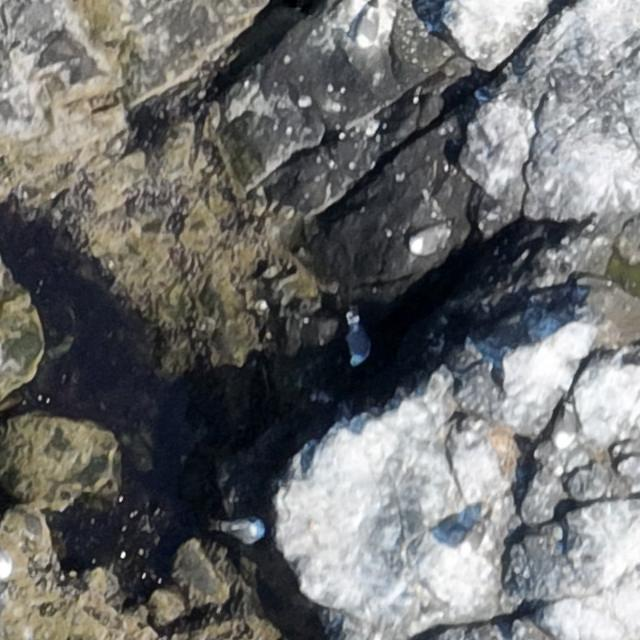umineko: (212, 518, 274, 545), (554, 399, 580, 449), (462, 518, 490, 557), (408, 227, 446, 253), (350, 325, 370, 364), (356, 12, 375, 44)
